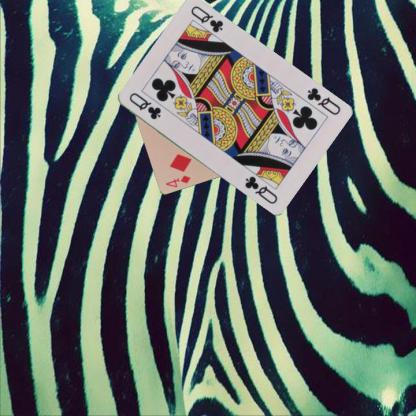4d: (163, 172, 192, 188)
Qc: (304, 85, 341, 117), (126, 90, 162, 121)
